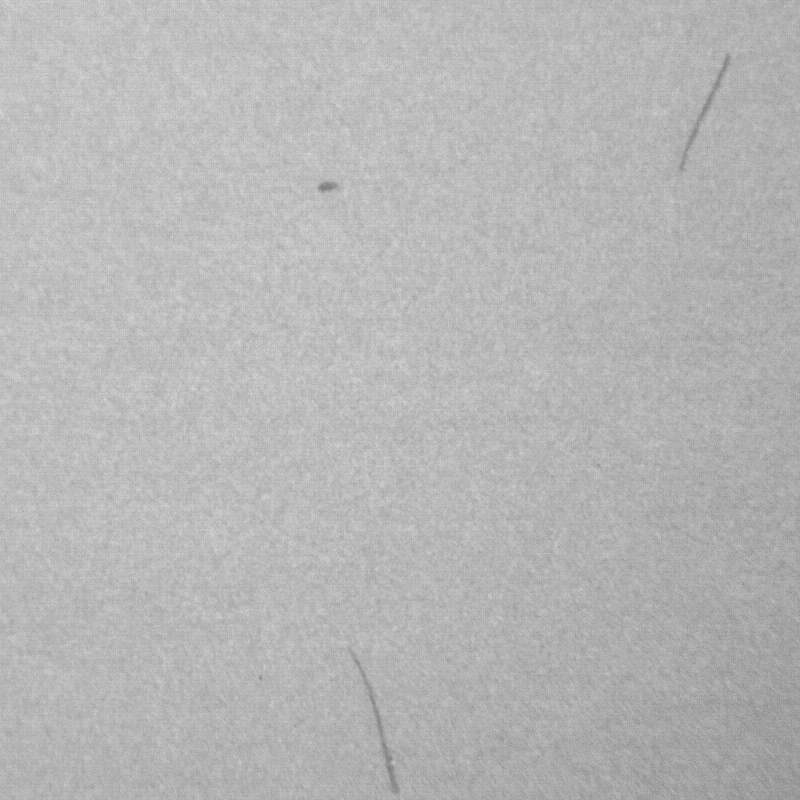defect: (348, 648, 408, 795), (677, 63, 728, 174), (311, 178, 350, 195)
